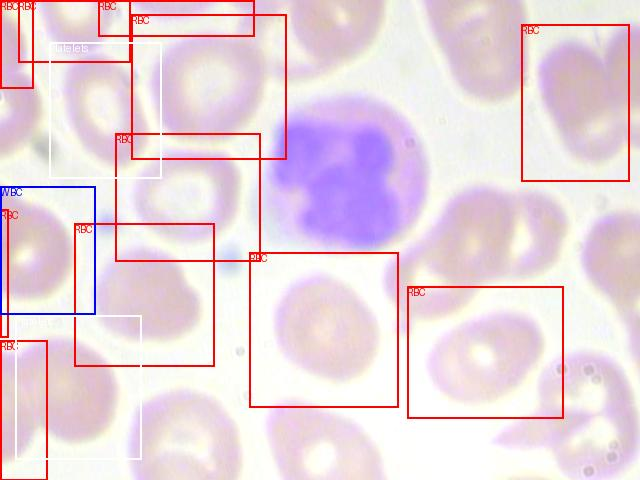Platelets: (15, 315, 141, 459), (49, 42, 161, 178)
RBC: (249, 252, 398, 407), (131, 14, 286, 159), (407, 286, 563, 418), (74, 223, 214, 366), (115, 133, 260, 261), (521, 24, 629, 181), (18, 0, 130, 62), (0, 340, 47, 480), (98, 0, 254, 36), (0, 0, 33, 88), (0, 209, 8, 337)
WBC: (0, 186, 95, 314)
